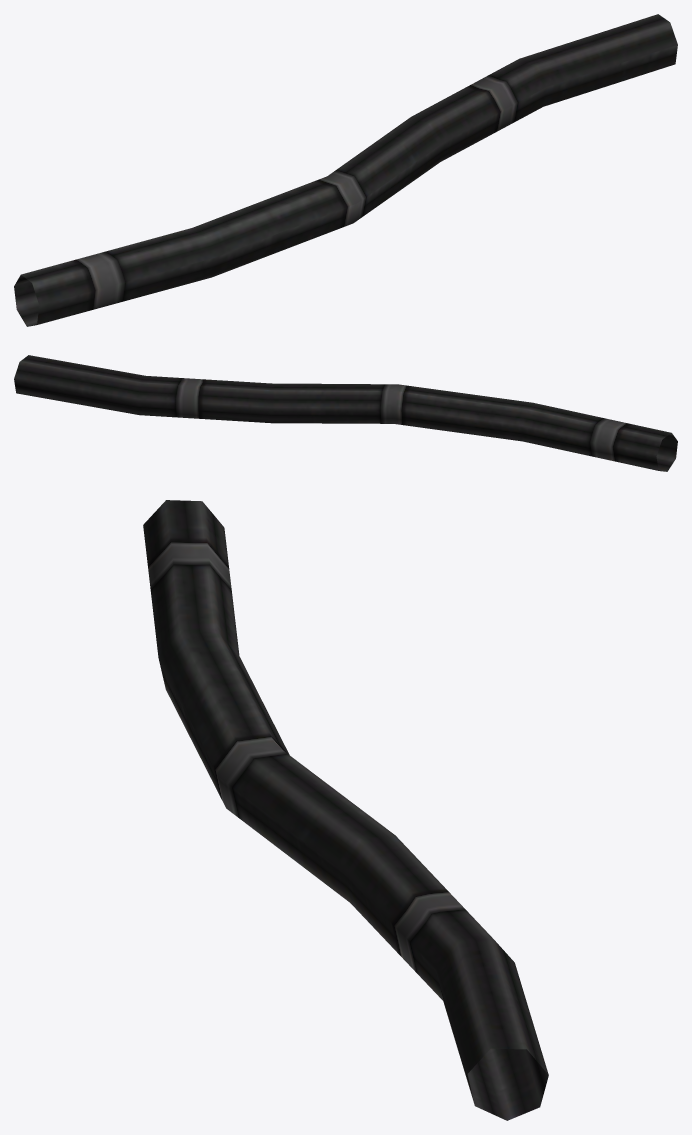
Rendered from lab_thick_wavy_med.dae.
The picture shows the model from 3 angles, top to bottom: view 1: azimuth 30°, elevation 25°; view 2: azimuth 150°, elevation 25°; view 3: azimuth 270°, elevation 25°; orthographic projection. The views are drawn at different scales.
Parts seen in each view (by area): view 1: wavy_med; view 2: wavy_med; view 3: wavy_med.
Boxes of the visible parts, left/top/right/bottom form: wavy_med: left=14, top=14, right=677, bottom=326; wavy_med: left=14, top=355, right=677, bottom=471; wavy_med: left=143, top=500, right=548, bottom=1120.
Bounding box in the file's own units: 2 × 0.1228 × 0.6253.
